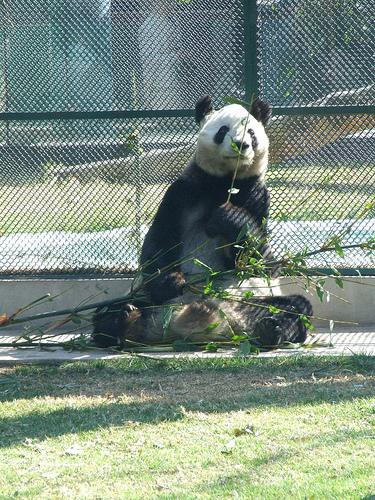panda: (140, 96, 312, 346), (93, 299, 163, 346)
